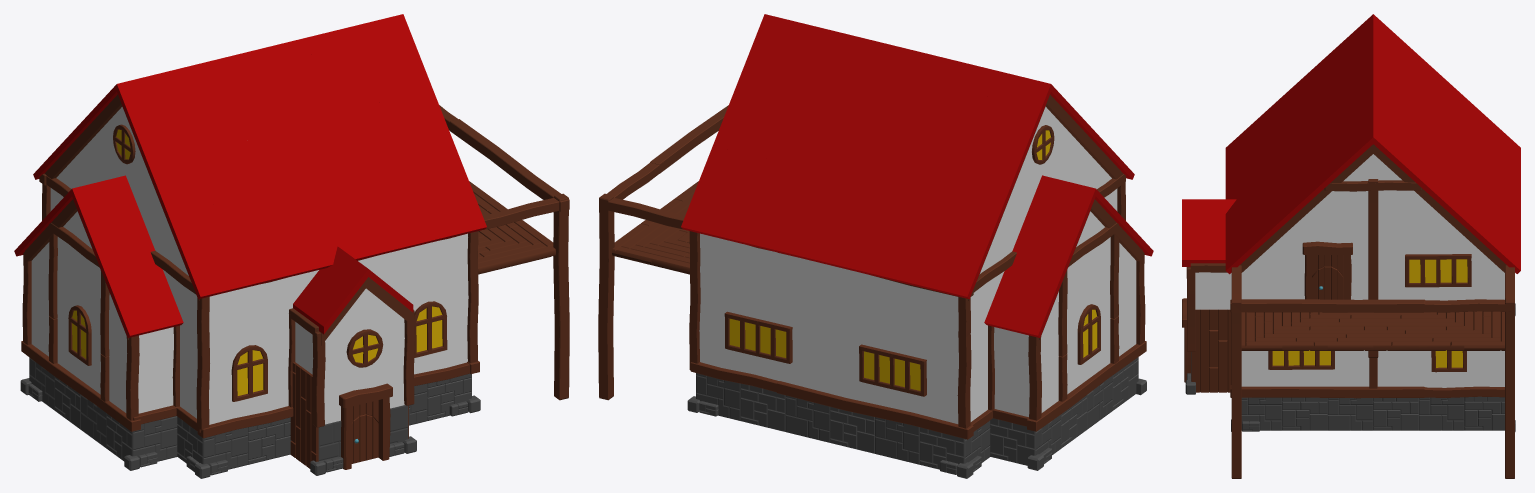
Rendered from House_Full_3.fbx.
3 views of the same model, side by side, from view 1: azimuth 30°, elevation 25°; view 2: azimuth 150°, elevation 25°; view 3: azimuth 270°, elevation 25° (orthographic). The views are drawn at different scales.
Parts seen in each view (by area): view 1: Wall_small (×3), Stone_Wall_LOD0, Wood_Floor_LOD0, Roof_Edge_4, Roof_Edge_1, Roof_Edge4, Roof_Edge_no, Roof_Edge_no4, Roof_Edge_no3, Roof_Middle20, Roof_Middle16, Roof_Middle18 (+60 smaller); view 2: Stone_Wall_LOD0, Wall_Large, Wall_small (×2), Roof_Edge3, Roof_Edge, Window_Large (×2), Roof_Edge_5, Roof_Edge_no_4, Roof_Edge_no_5, Roof_Edge_no_1, Roof_Middle, Roof_Middle14 (+50 smaller); view 3: Wood_Floor_LOD0, Stone_Wall_LOD0, Wall_small2, Wall_Large5, Window_Large (×2), Roof_Edge_no8, Roof_Edge4, Beam8, Roof_Edge_5, Roof_Edge_no_6, Roof_Edge_no7, Roof_Edge_no_8 (+54 smaller).
Boxes of the visible parts, x1,y1,x2,y2 form: Wall_small (×3): (57,237,468,424); Stone_Wall_LOD0: (29,357,471,469); Wood_Floor_LOD0: (290,181,555,468); Roof_Edge_4: (168,202,254,300); Roof_Edge_1: (98,241,183,339); Roof_Edge4: (401,145,486,242); Roof_Edge_no: (142,136,221,234); Roof_Edge_no4: (72,175,151,273); Roof_Edge_no3: (117,71,196,169); Roof_Middle20: (357,159,433,253); Roof_Middle16: (222,191,298,285); Roof_Middle18: (267,180,337,275); Stone_Wall_LOD0: (696,357,1138,469); Wall_Large: (785,291,958,423); Wall_small (×2): (699,237,1110,382); Roof_Edge3: (913,202,999,300); Roof_Edge: (984,241,1069,339); Window_Large (×2): (724,311,926,396); Roof_Edge_5: (681,145,766,242); Roof_Edge_no_4: (946,136,1025,234); Roof_Edge_no_5: (1016,175,1095,273); Roof_Edge_no_1: (971,71,1050,169); Roof_Middle: (869,191,945,285); Roof_Middle14: (779,169,855,264); Wood_Floor_LOD0: (1191,309,1504,392); Stone_Wall_LOD0: (1241,396,1504,430); Wall_small2: (1327,190,1418,265); Wall_Large5: (1327,350,1504,387); Window_Large (×2): (1268,254,1471,369); Roof_Edge_no8: (1182,199,1236,278); Roof_Edge4: (1225,197,1282,274); Beam8: (1230,299,1425,312); Roof_Edge_5: (1464,197,1520,273); Roof_Edge_no_6: (1282,156,1327,235); Roof_Edge_no7: (1419,156,1464,235); Roof_Edge_no_8: (1327,114,1373,194).
Size of what is drawn, in the model's own units: 0.0933 by 0.0739 by 0.0744.
